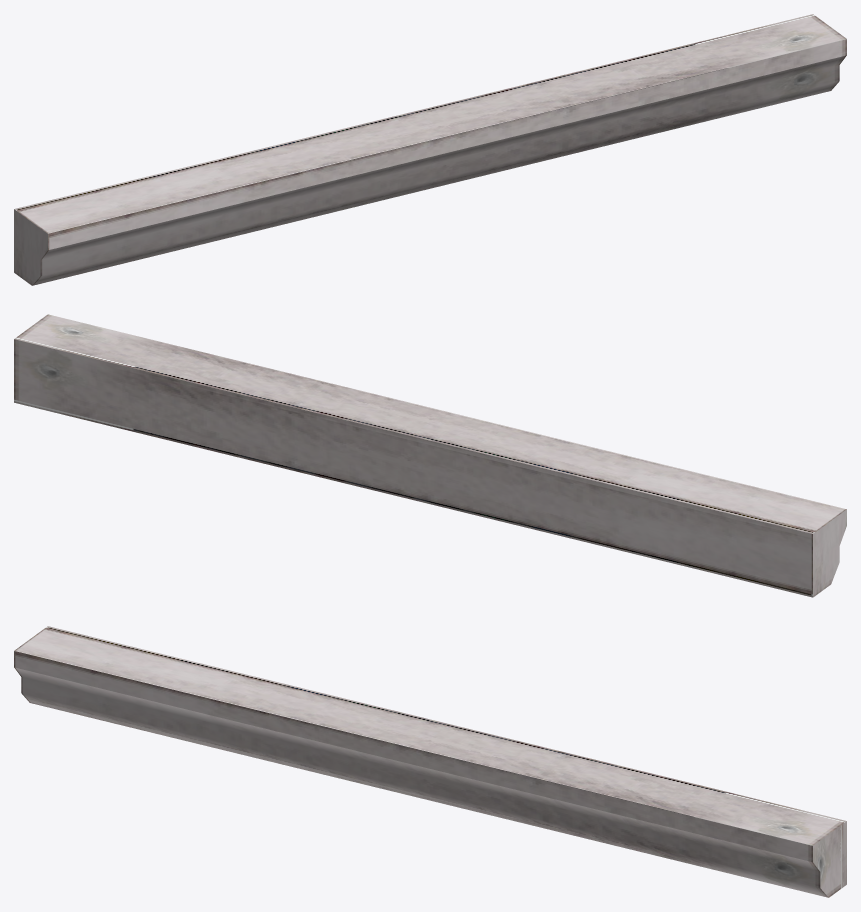
File: ledge.obj
The picture shows the model from 3 angles, top to bottom: view 1: azimuth 30°, elevation 25°; view 2: azimuth 150°, elevation 25°; view 3: azimuth 330°, elevation 25°; orthographic projection.
Parts seen in each view (by area): view 1: pCube47; view 2: pCube47; view 3: pCube47.
Part boxes in pixels (bbox=[...]): pCube47: bbox=[14, 14, 846, 285]; pCube47: bbox=[14, 314, 846, 597]; pCube47: bbox=[14, 626, 846, 897].
Size of the model in its own units: 6.54 by 0.4971 by 0.4805.
1 material, 1 textured.
